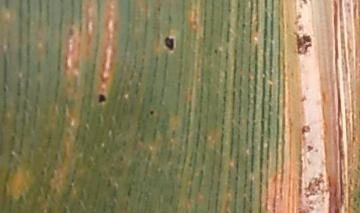tarspot: (292, 31, 313, 56), (163, 35, 175, 52), (300, 123, 310, 136), (96, 93, 106, 103), (305, 143, 313, 153), (212, 47, 219, 56), (156, 5, 162, 13), (148, 109, 155, 115), (351, 135, 357, 142), (240, 22, 246, 29), (301, 1, 309, 5)
